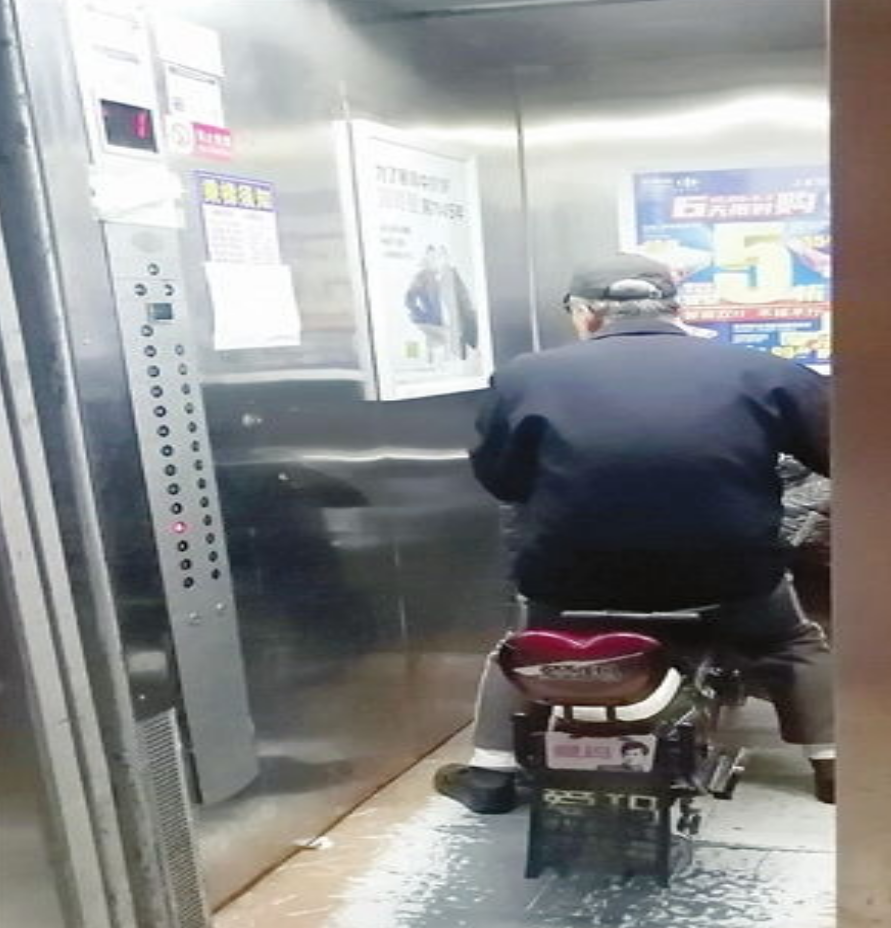ebike: (474, 619, 750, 882)
person: (471, 251, 842, 809)
